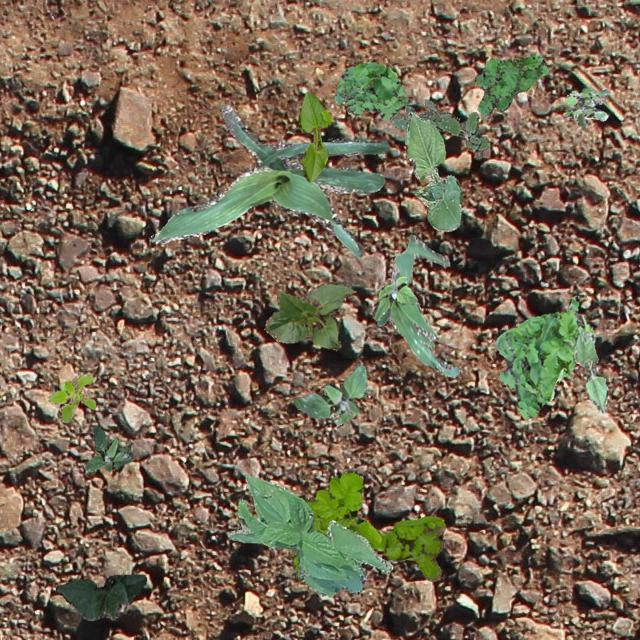crop: (150, 104, 390, 256), (226, 474, 392, 596), (376, 234, 459, 376), (404, 110, 460, 230), (262, 280, 354, 350), (54, 574, 146, 620), (572, 330, 608, 412), (298, 91, 330, 180)
weed: (290, 472, 444, 580), (494, 294, 592, 418), (391, 98, 488, 152), (473, 54, 548, 118), (293, 364, 367, 426), (334, 62, 406, 118), (46, 374, 94, 422), (84, 424, 132, 470), (372, 276, 416, 320), (564, 86, 610, 128)
